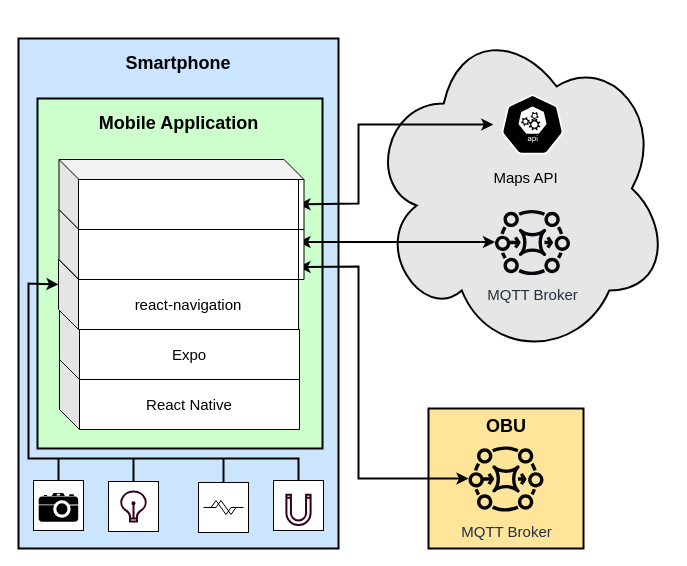
Image size: 687x566. Some labels were removed from this diagram. The shapes that lost their labels are listed below. From the top down, each one's centre as x and y in pixels, then its label:
point 188,204: react-native-maps
point 188,254: react-native-paho-mqtt
